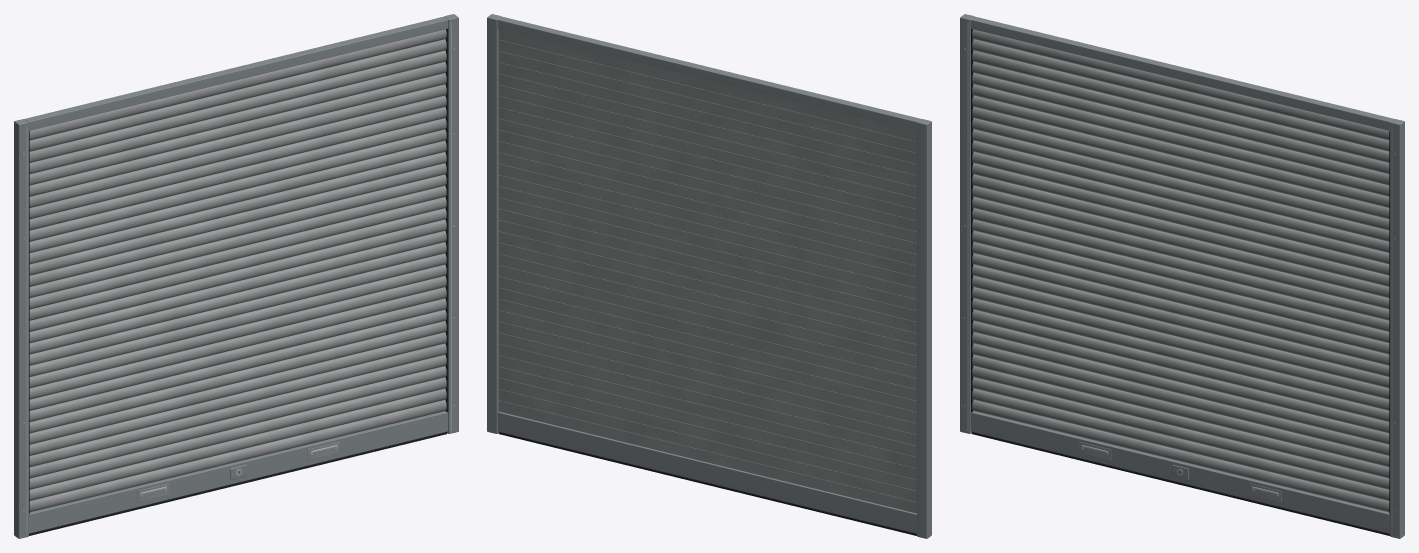
The model's file is porta_enrolar_realista.glb.
3 renders of one model, left to right at view 1: azimuth 30°, elevation 25°; view 2: azimuth 150°, elevation 25°; view 3: azimuth 330°, elevation 25°, orthographic.
Visible parts, largest first — view 1: Barra inferior reforcada, Guia lateral, Travessa superior, Lamina 26, Lamina 04, Lamina 07, Lamina 22, Lamina 01, Lamina 06, Lamina 08, Lamina 11, Lamina 19 (+30 smaller); view 2: Barra inferior reforcada, Guia lateral, Travessa superior, Lamina 01, Lamina 16, Lamina 18, Lamina 21, Lamina 13, Lamina 14, Lamina 15, Lamina 17, Lamina 19 (+27 smaller); view 3: Barra inferior reforcada, Guia lateral.001, Travessa superior, Lamina 26, Lamina 04, Lamina 22, Lamina 01, Lamina 06, Lamina 07, Lamina 08, Lamina 11, Lamina 19 (+30 smaller).
Boxes of the visible parts, <box> form: Barra inferior reforcada: <box>29,411,448,533</box>; Guia lateral: <box>14,119,28,538</box>; Travessa superior: <box>25,16,448,130</box>; Lamina 26: <box>29,118,446,230</box>; Lamina 04: <box>29,366,446,478</box>; Lamina 07: <box>29,332,446,444</box>; Lamina 22: <box>29,163,446,275</box>; Lamina 01: <box>29,399,446,512</box>; Lamina 06: <box>29,343,446,455</box>; Lamina 08: <box>29,321,446,433</box>; Lamina 11: <box>29,287,446,399</box>; Lamina 19: <box>29,197,446,309</box>; Barra inferior reforcada: <box>497,411,916,533</box>; Guia lateral: <box>917,119,931,538</box>; Travessa superior: <box>497,16,920,130</box>; Lamina 01: <box>498,400,916,513</box>; Lamina 16: <box>498,231,916,344</box>; Lamina 18: <box>498,209,916,321</box>; Lamina 21: <box>498,175,916,287</box>; Lamina 13: <box>498,265,916,378</box>; Lamina 14: <box>498,254,916,366</box>; Lamina 15: <box>498,242,916,355</box>; Lamina 17: <box>498,220,916,332</box>; Lamina 19: <box>498,197,916,310</box>; Barra inferior reforcada: <box>970,411,1389,533</box>; Guia lateral.001: <box>1390,119,1404,538</box>; Travessa superior: <box>970,16,1393,130</box>; Lamina 26: <box>972,118,1389,230</box>; Lamina 04: <box>972,366,1389,478</box>; Lamina 22: <box>972,163,1389,275</box>; Lamina 01: <box>972,399,1389,512</box>; Lamina 06: <box>972,343,1389,455</box>; Lamina 07: <box>972,332,1389,444</box>; Lamina 08: <box>972,321,1389,433</box>; Lamina 11: <box>972,287,1389,399</box>; Lamina 19: <box>972,197,1389,309</box>.
Bounding box in the file's own units: 3 × 2.7 × 0.062.
Materials: 5 (1 with a texture image).
